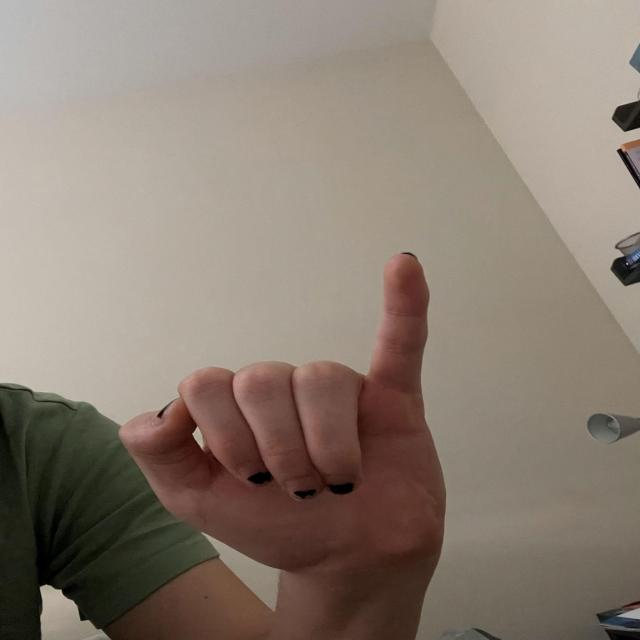I: (106, 247, 462, 583)
